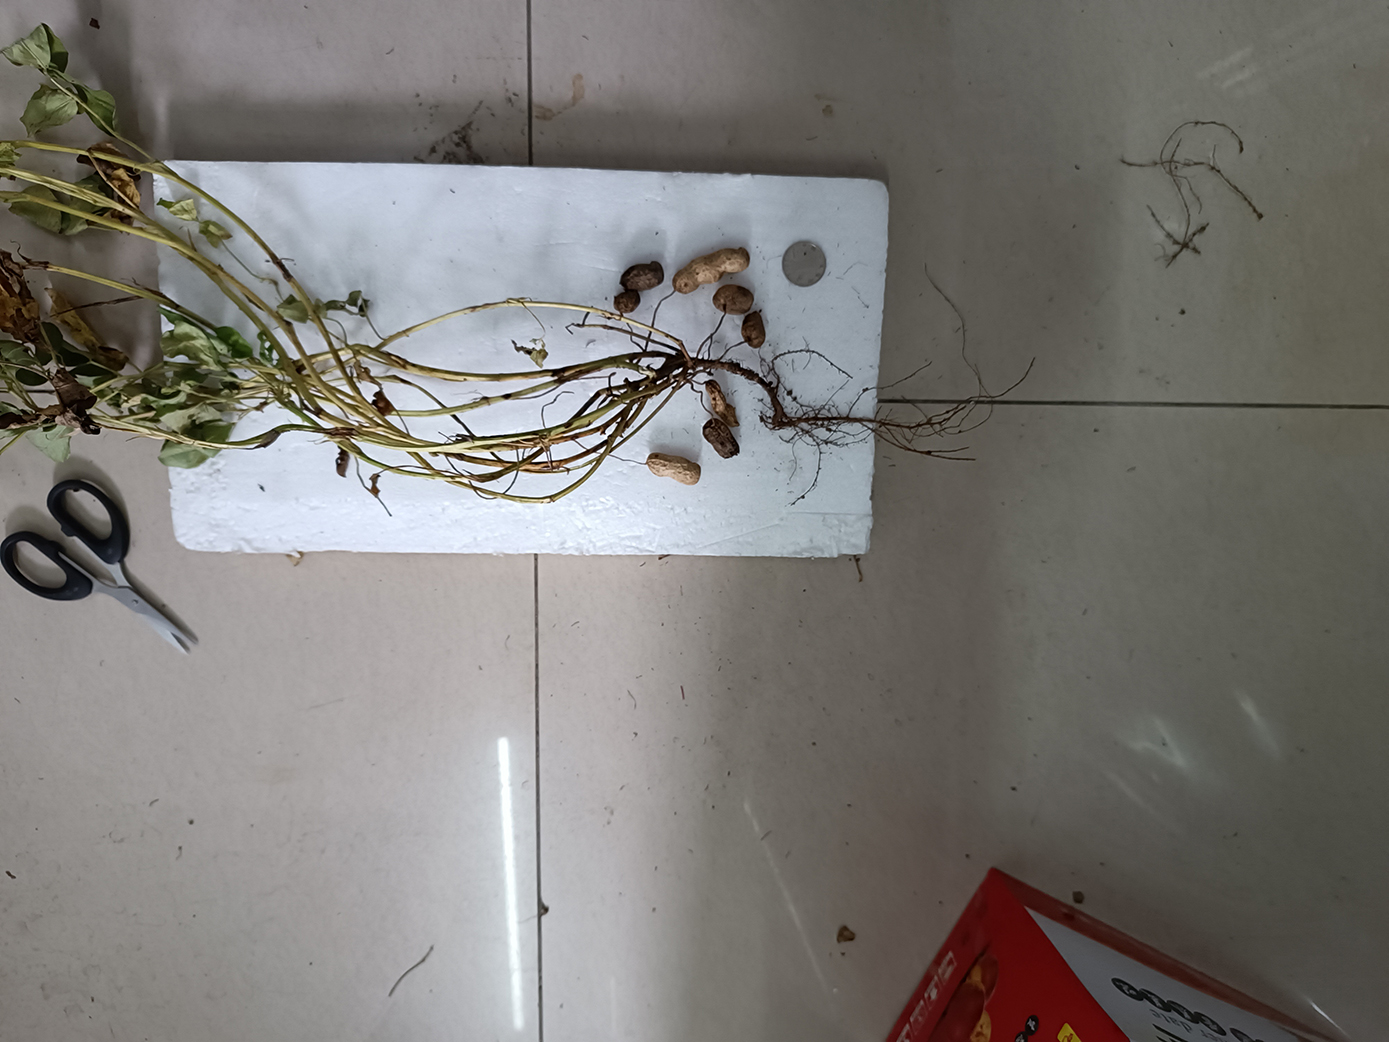h: (670, 247, 751, 294), (647, 454, 701, 485)
l: (704, 379, 741, 428), (620, 260, 665, 293), (702, 421, 740, 456), (711, 286, 752, 312), (740, 313, 764, 348), (615, 291, 641, 313)
